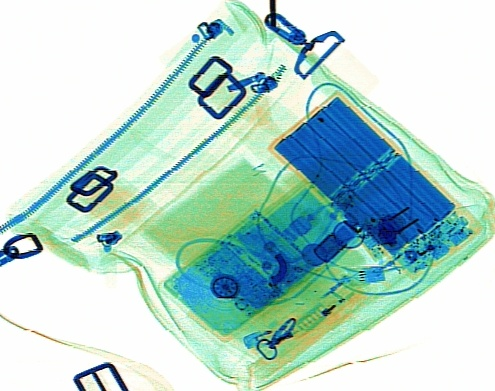lighter: (278, 278, 372, 368), (243, 299, 372, 349)
powerbank: (264, 85, 483, 280)
